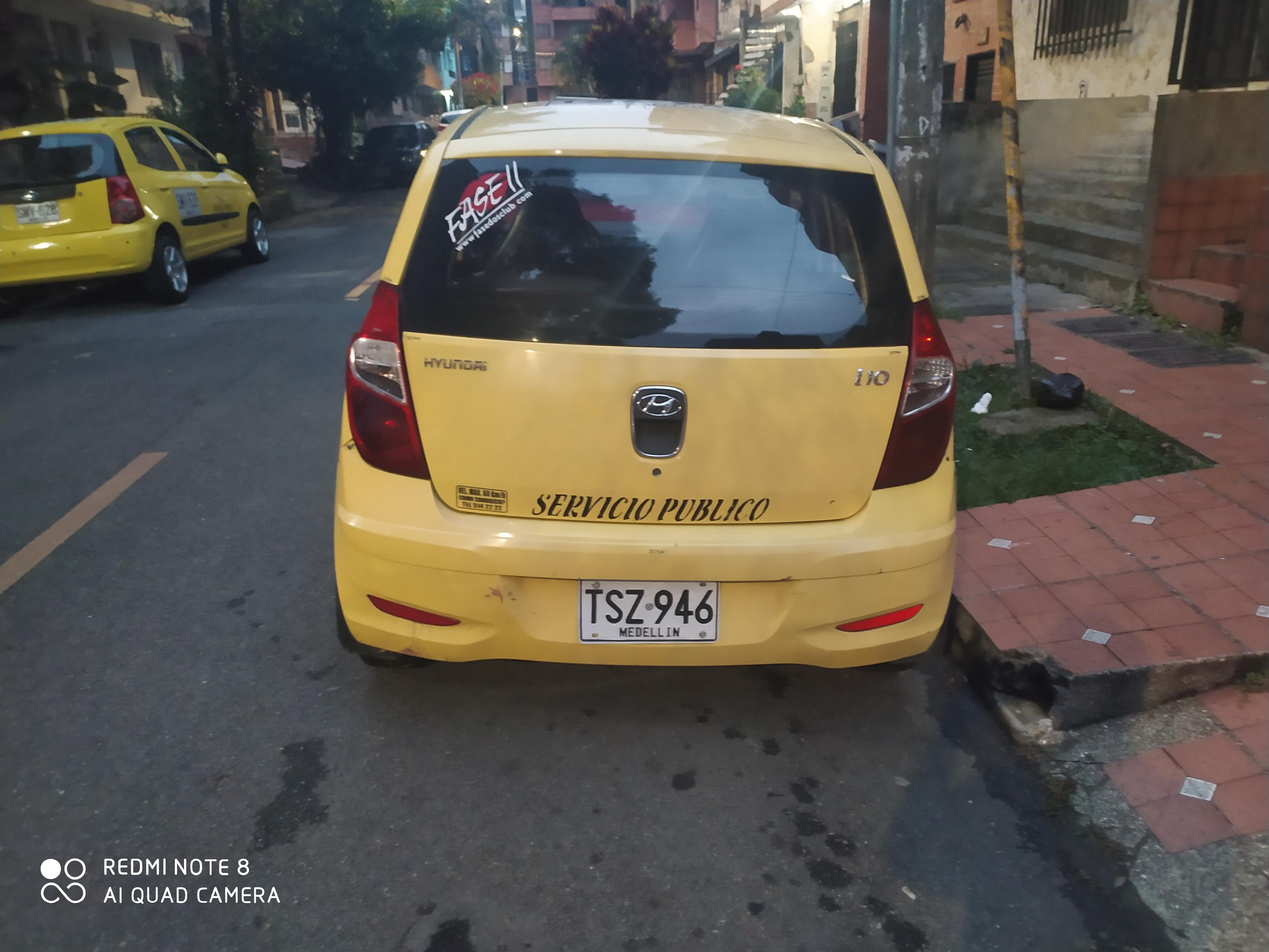placa: (570, 575, 727, 650)
